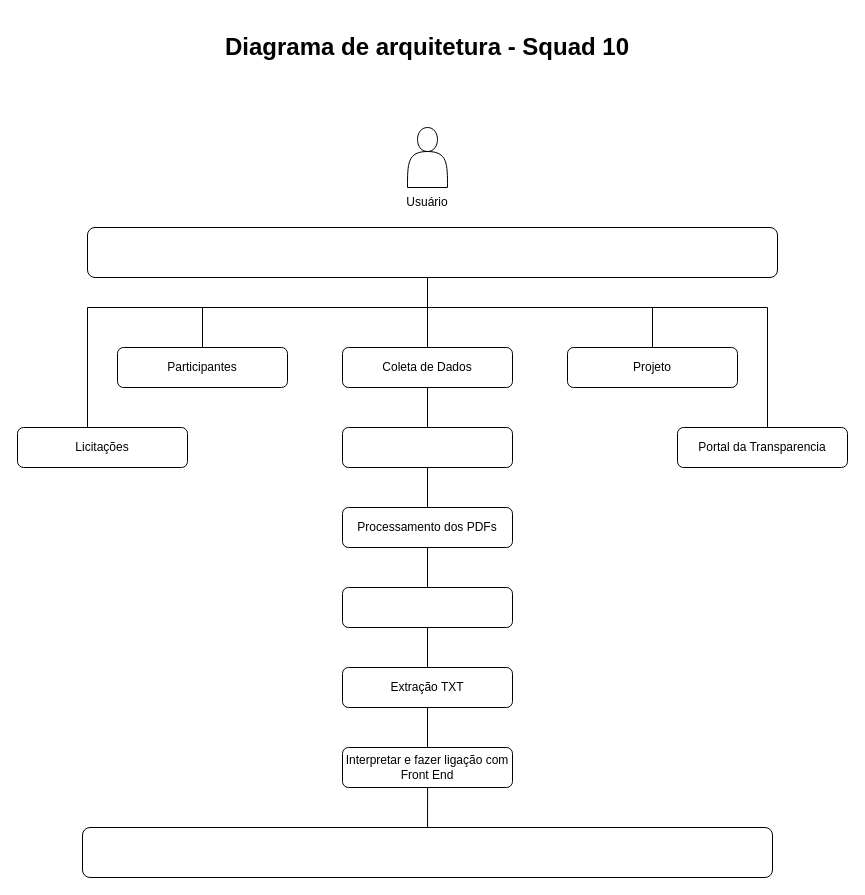
Image size: 865x895. Some labels were removed from this diagram. The shapes that lost their labels are listed below. From the top down, each one's box as (x1, y1, x2, y2) in pixels, then its label:
(86, 226, 778, 278): Página incial do site: Apresentação do projeto
(342, 426, 512, 468): Iniciar raspagem de dados
(342, 586, 512, 628): Importação para banco de dados
(82, 826, 772, 878): Página incial do site: Apresentação da Tabela de Dados
